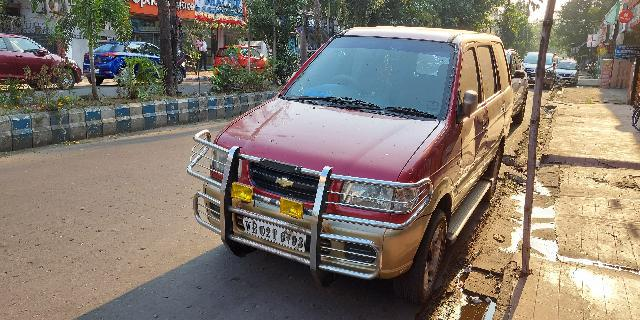Car: (188, 20, 515, 300)
